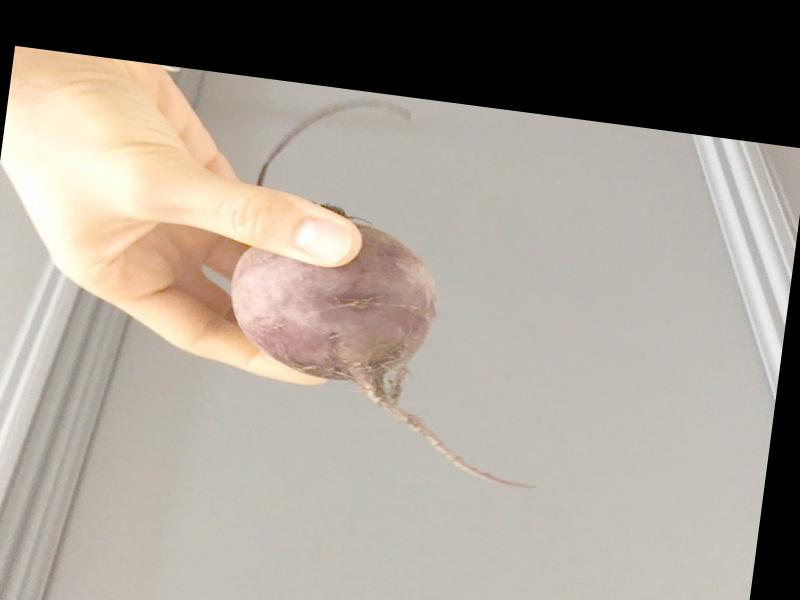Beet: (211, 84, 587, 490)
